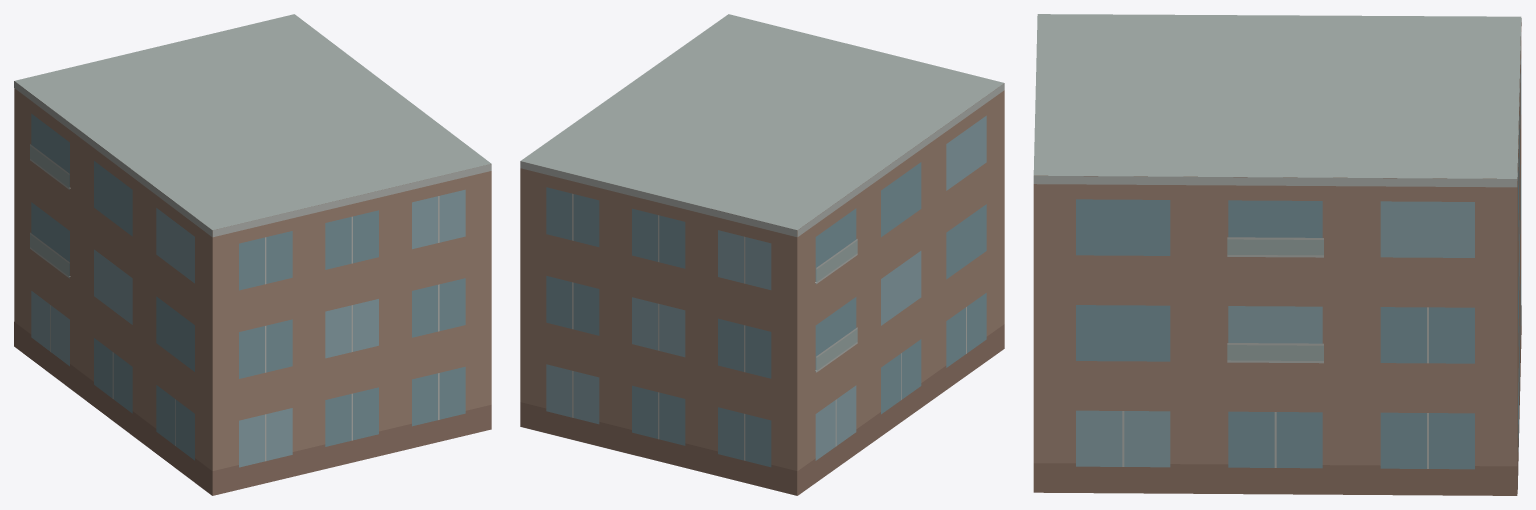
File: survey-upis-32837909.glb
3 renders of one model, left to right at view 1: azimuth 30°, elevation 25°; view 2: azimuth 150°, elevation 25°; view 3: azimuth 270°, elevation 25°, orthographic. The views are drawn at different scales.
Parts seen in each view (by area): view 1: survey-upis-32837909.tmp; view 2: survey-upis-32837909.tmp; view 3: survey-upis-32837909.tmp.
Boxes of the visible parts, x1,y1,x2,y2 form: survey-upis-32837909.tmp: (14, 14, 491, 495); survey-upis-32837909.tmp: (520, 14, 1004, 495); survey-upis-32837909.tmp: (1033, 14, 1521, 495).
Bounding box in the file's own units: 10.22 × 9.15 × 12.77.
